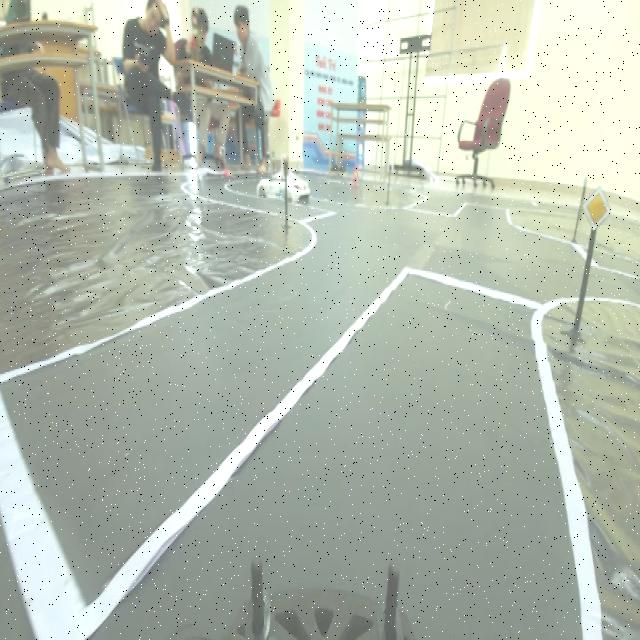priority: (584, 178, 613, 240)
